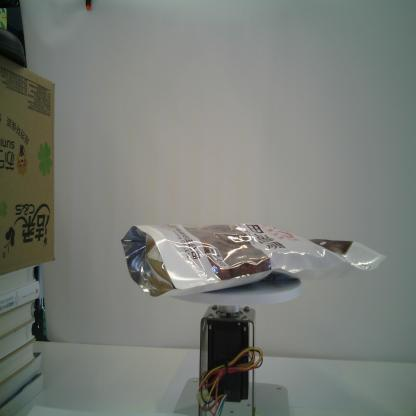Dried Food: (121, 221, 388, 300)
